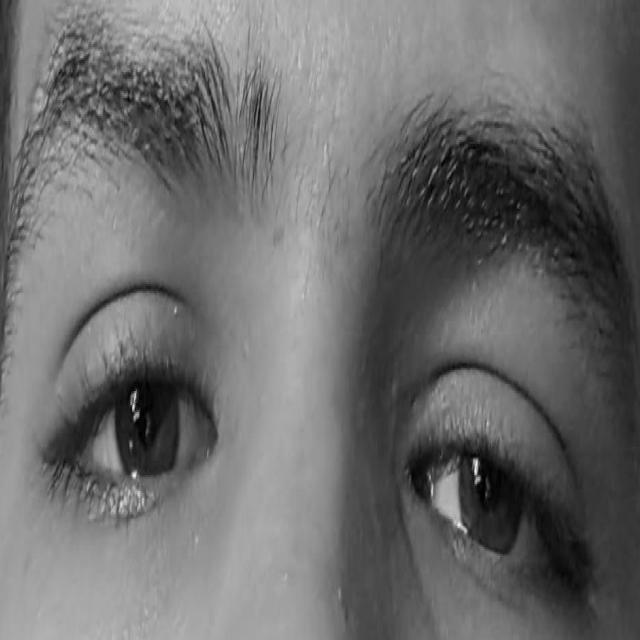real: (12, 134, 617, 640)
